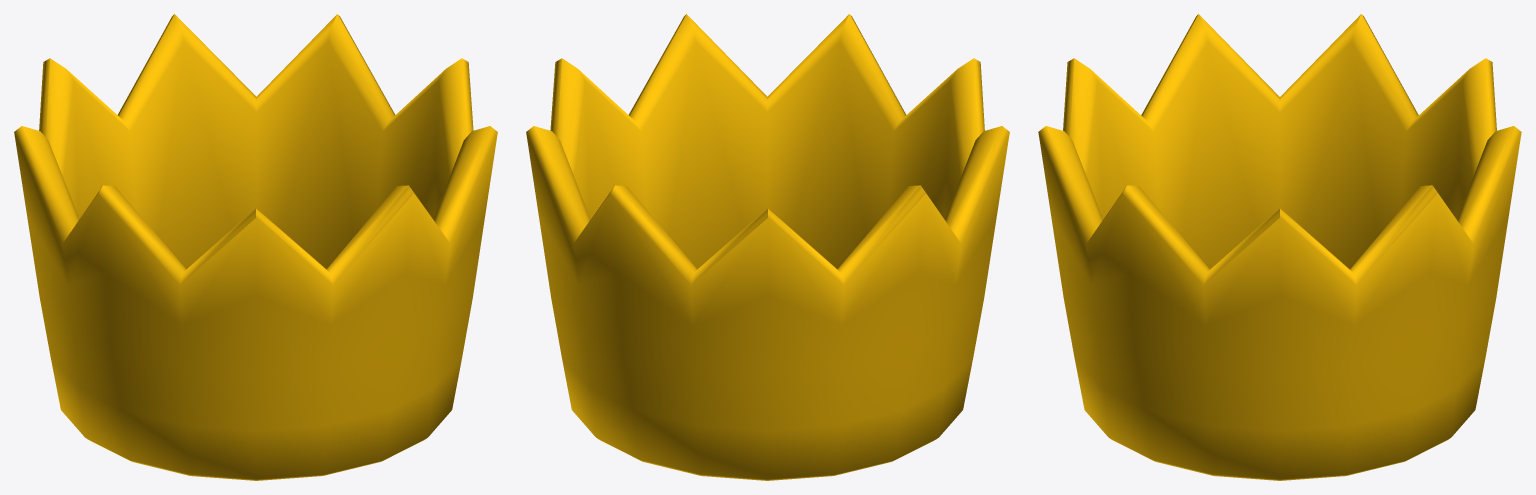
File: crown.fbx
The picture shows the model from 3 angles, left to right: view 1: azimuth 30°, elevation 25°; view 2: azimuth 150°, elevation 25°; view 3: azimuth 270°, elevation 25°; orthographic projection.
Visible parts, largest first — view 1: Crown_lp; view 2: Crown_lp; view 3: Crown_lp.
Boxes of the visible parts, x1,y1,x2,y2 form: Crown_lp: (14,14,497,480); Crown_lp: (526,14,1009,480); Crown_lp: (1038,14,1521,480).
Bounding box in the file's own units: 1.92 × 1.29 × 1.95.
1 material, 1 textured.
